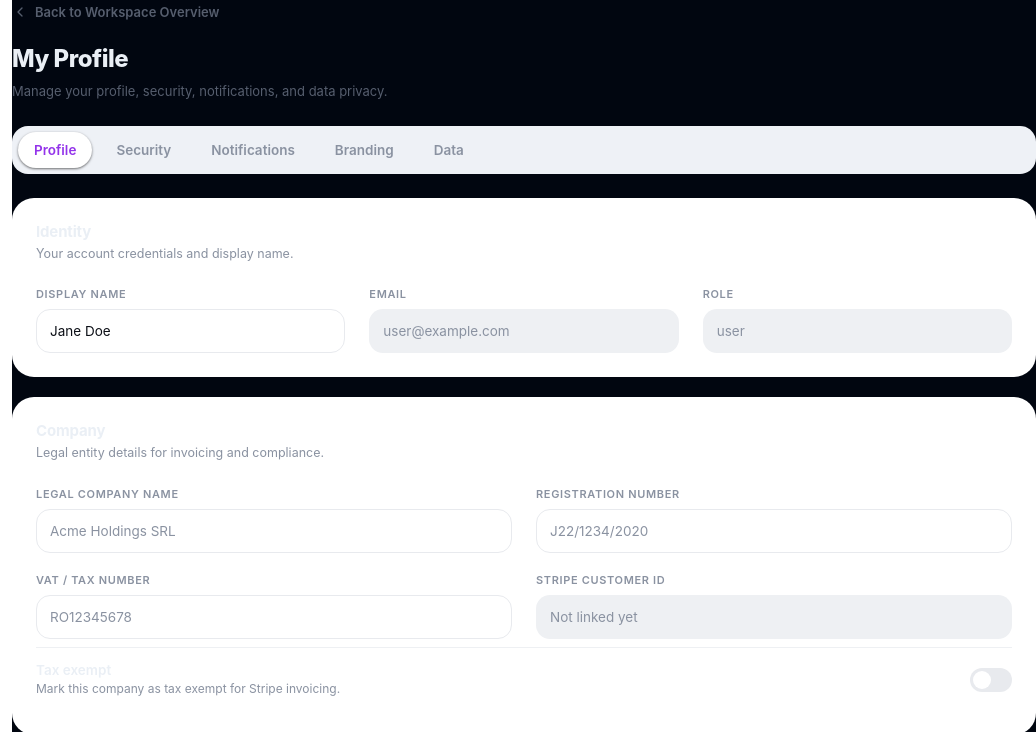
Test: AccountSettingsPage › requires a programmatic label for the SecuritySection passkey rename field
Step 1. Click the tab "Security" → point(144, 150), box [100,132,187,168]
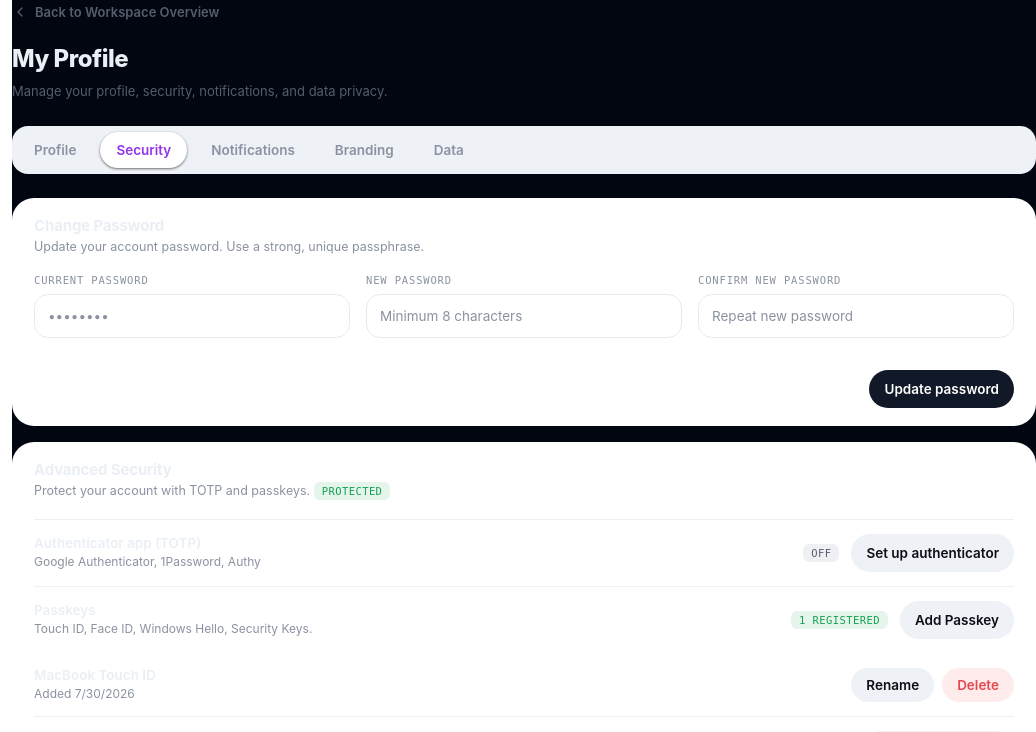
Step 2. Click the button "Rename" → point(893, 685), box [851,668,934,702]
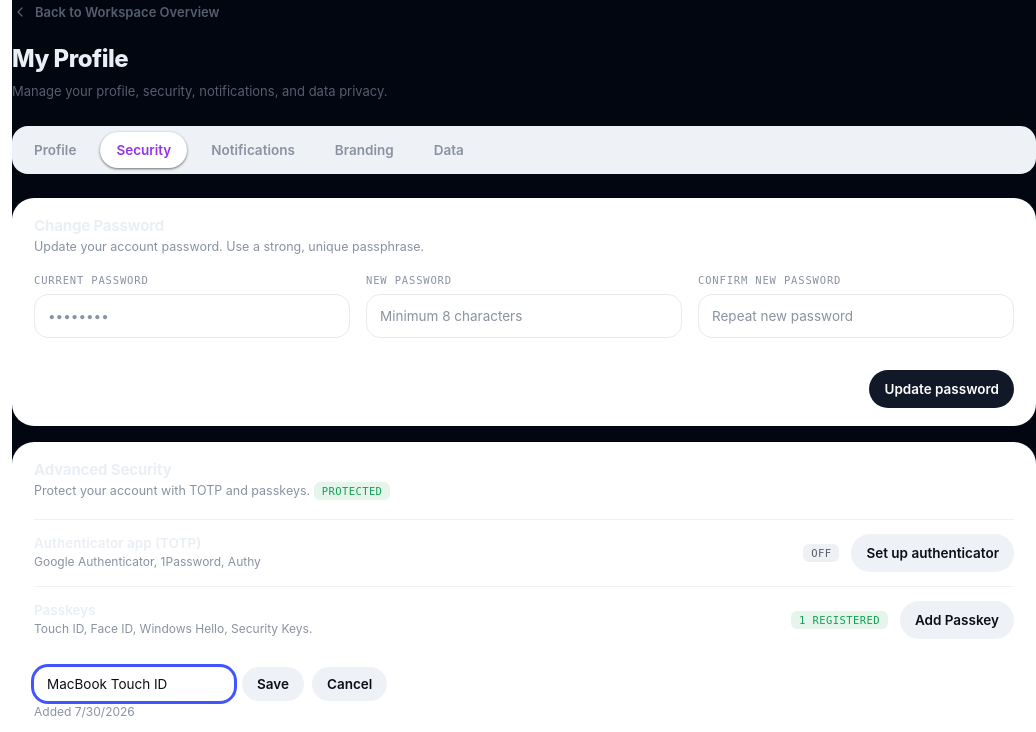
expect the field named "Passkey name" holds "MacBook Touch ID": met, box [34,667,234,701]
